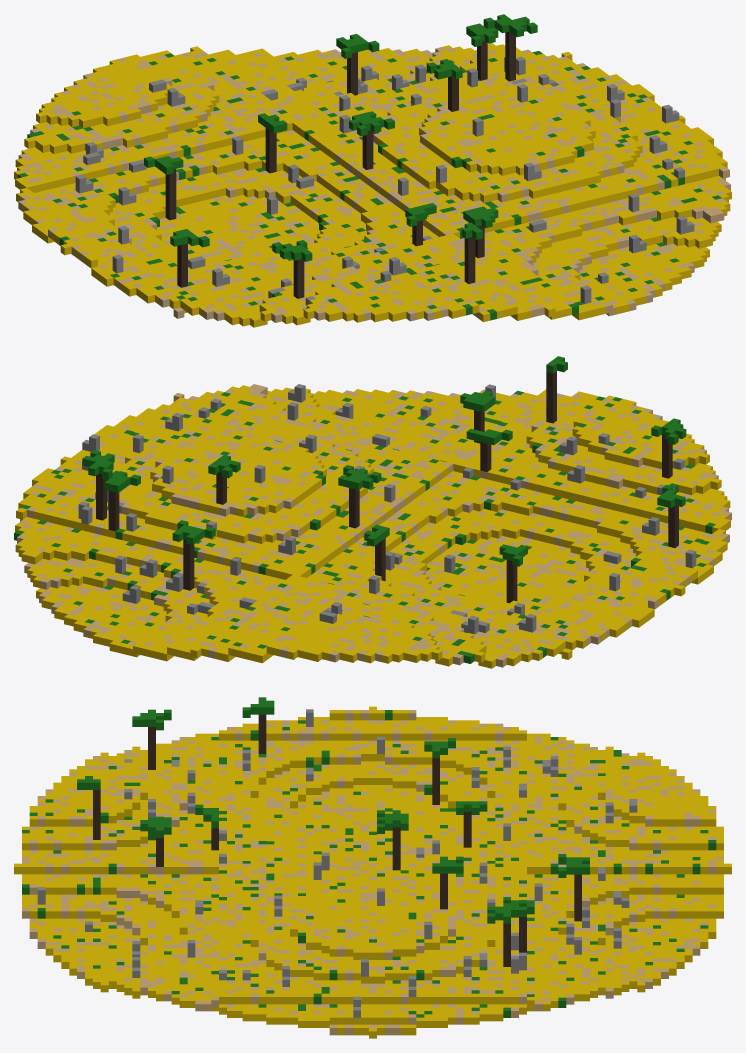
File: house.glb
3 views of the same model, one above another, from view 1: azimuth 30°, elevation 25°; view 2: azimuth 150°, elevation 25°; view 3: azimuth 270°, elevation 25° (orthographic).
Bounding box in the file's own units: 91 × 13 × 91.
